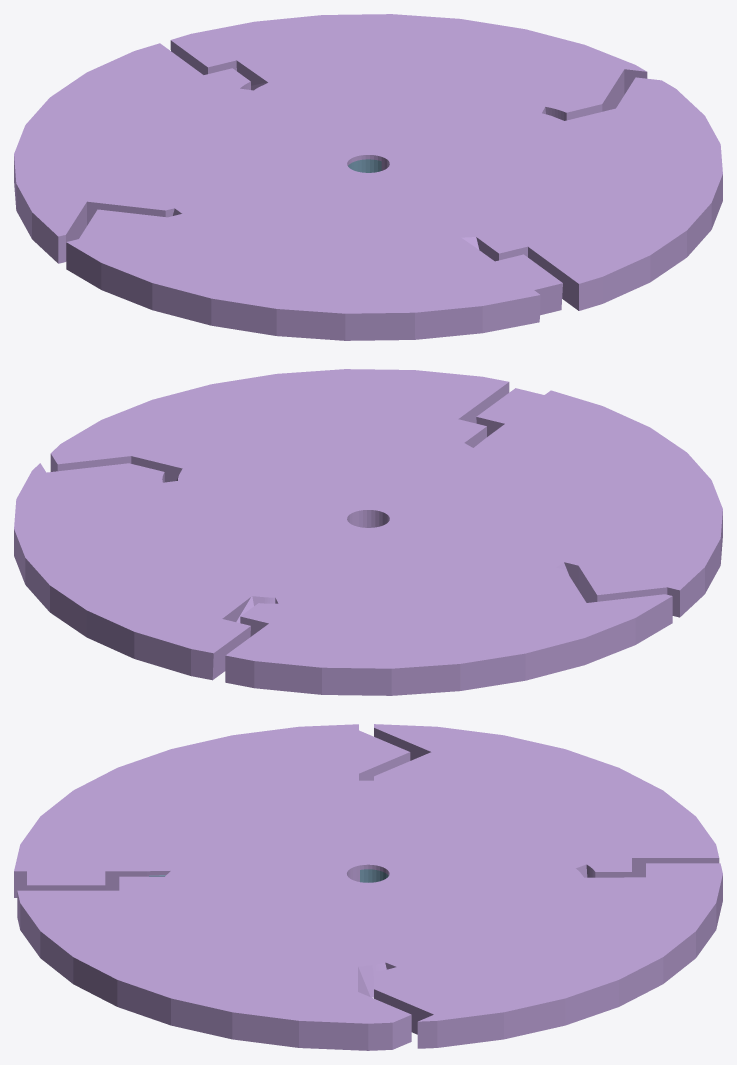
Rendered from discs.glb.
3 views of the same model, one above another, from view 1: azimuth 30°, elevation 25°; view 2: azimuth 150°, elevation 25°; view 3: azimuth 270°, elevation 25° (orthographic).
Parts seen in each view (by area): view 1: lower Disk; view 2: lower Disk; view 3: lower Disk.
Boxes of the visible parts, bbox=[...] form: lower Disk: bbox=[14, 14, 722, 340]; lower Disk: bbox=[14, 369, 722, 695]; lower Disk: bbox=[14, 724, 722, 1050].
Bounding box in the file's own units: 0.1133 × 0.00479 × 0.1133.
